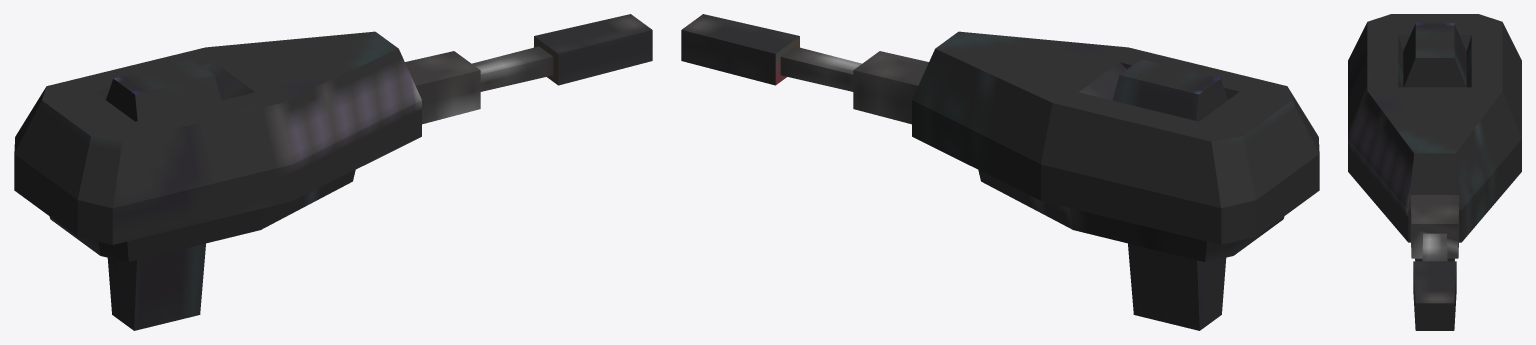
File: SM_Tower_01.fbx
The picture shows the model from 3 angles, left to right: view 1: azimuth 30°, elevation 25°; view 2: azimuth 150°, elevation 25°; view 3: azimuth 270°, elevation 25°; orthographic projection. The views are drawn at different scales.
Visible parts, largest first — view 1: Cube.057, Cube.032, Cube.050; view 2: Cube.057, Cube.032, Cube.050; view 3: Cube.057, Cube.032, Cube.050.
Boxes of the visible parts, x1=… form: Cube.057: x1=14, y1=31, x2=421, y2=330; Cube.032: x1=472, y1=14, x2=652, y2=91; Cube.050: x1=405, y1=51, x2=480, y2=124; Cube.057: x1=912, y1=31, x2=1319, y2=330; Cube.032: x1=681, y1=14, x2=861, y2=91; Cube.050: x1=853, y1=51, x2=928, y2=124; Cube.057: x1=1348, y1=14, x2=1521, y2=261; Cube.032: x1=1413, y1=233, x2=1456, y2=330; Cube.050: x1=1410, y1=195, x2=1459, y2=258.
Size of the model in its own units: 922 by 349 by 262.
